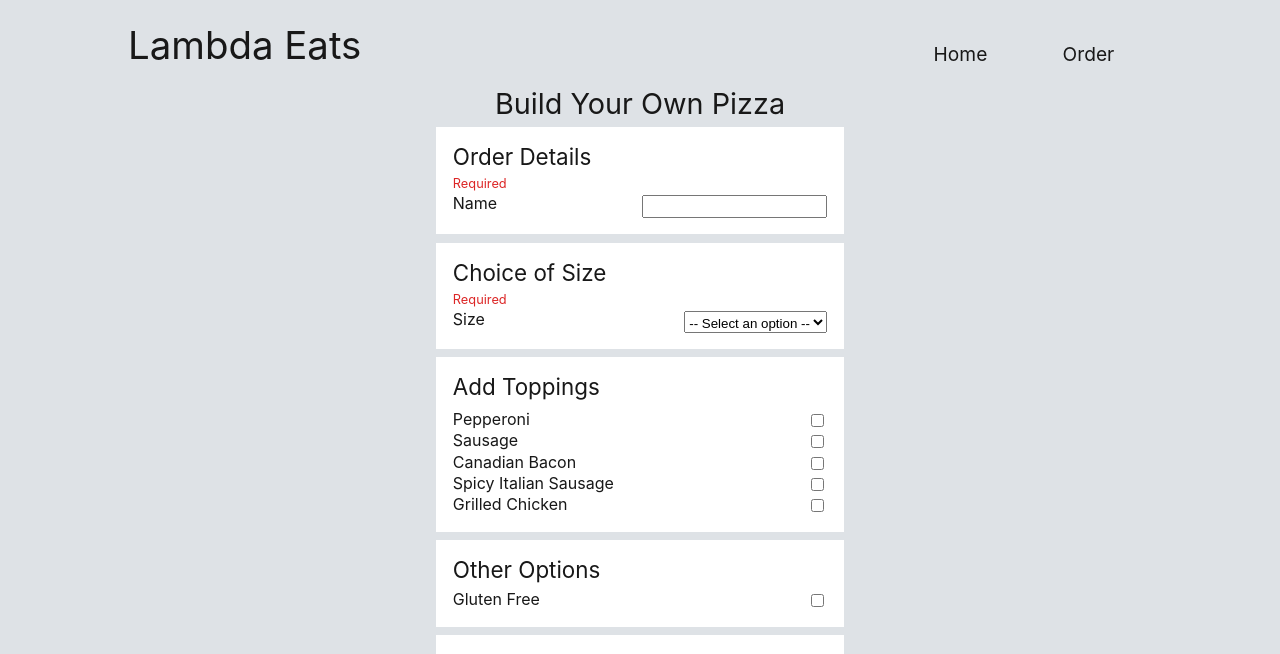
Scenario: Order Form › Validating form input › should only allow valid name input
Note: name is required
In the field named "name": (735, 206) x1=642 y1=195 x2=827 y2=217, type "T"
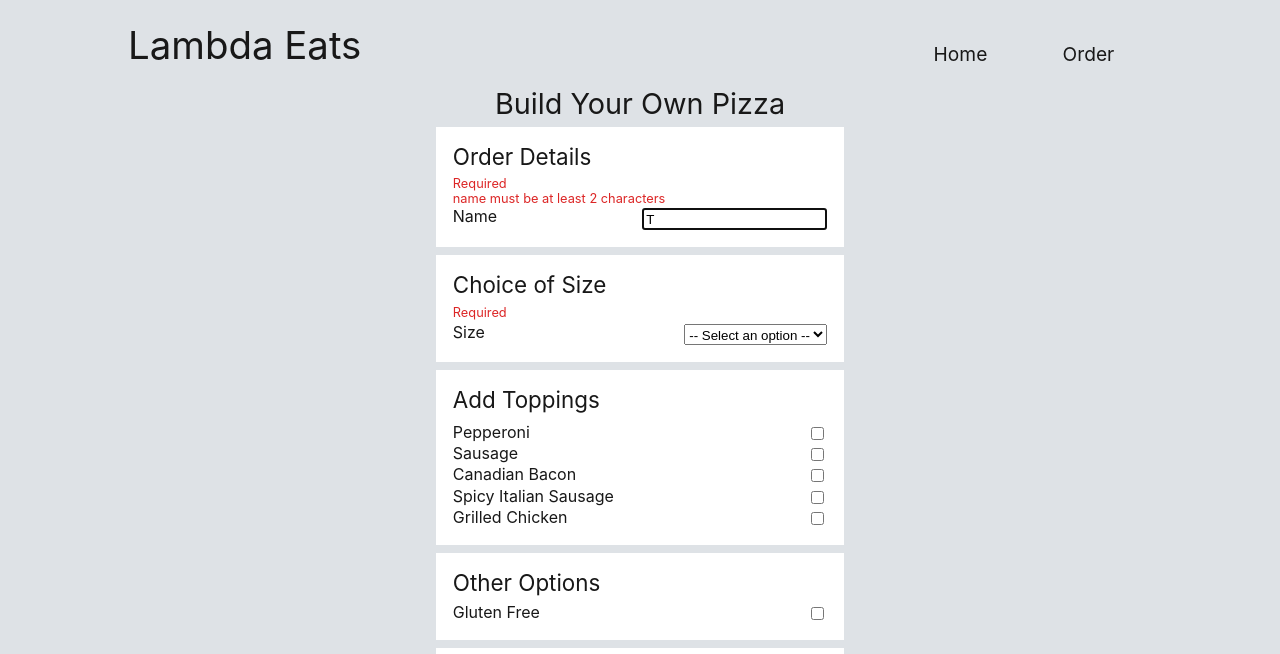
Clear the field named "name": (735, 219) x1=642 y1=208 x2=827 y2=230
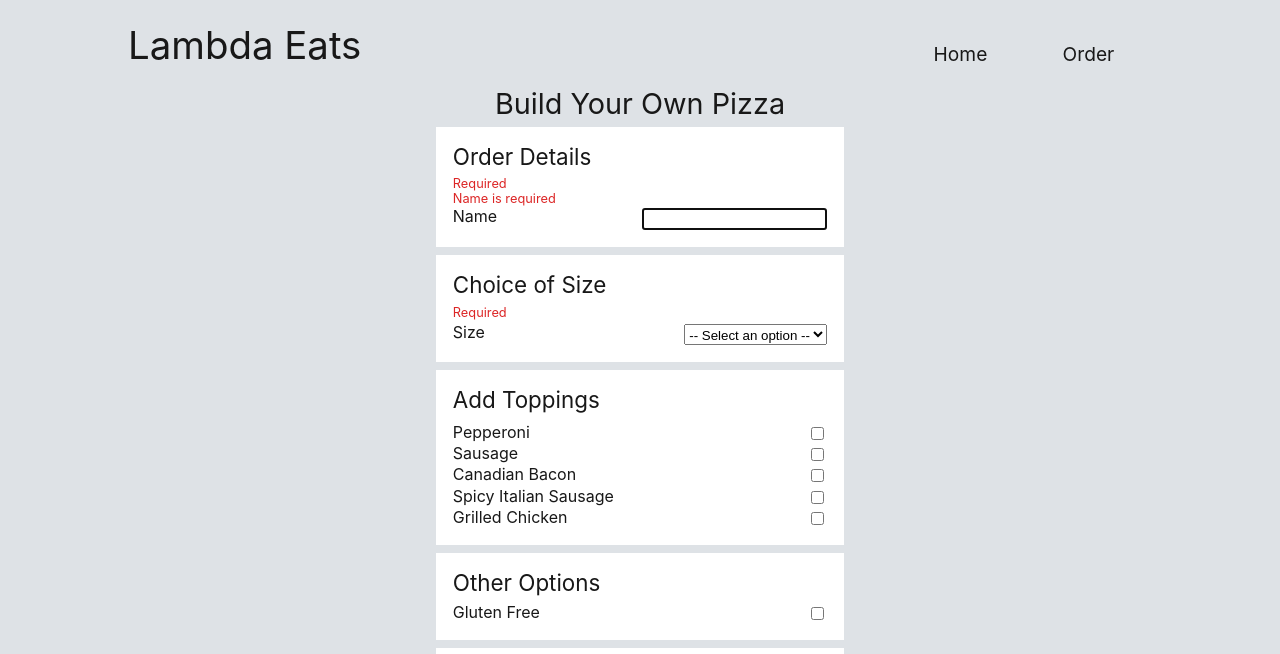
Now the text with id "errors-name" reads "Name is required", box x1=453 y1=191 x2=556 y2=206
Note: name must be 2 characters or longer
In the field named "name": (735, 219) x1=642 y1=208 x2=827 y2=230, type "T"
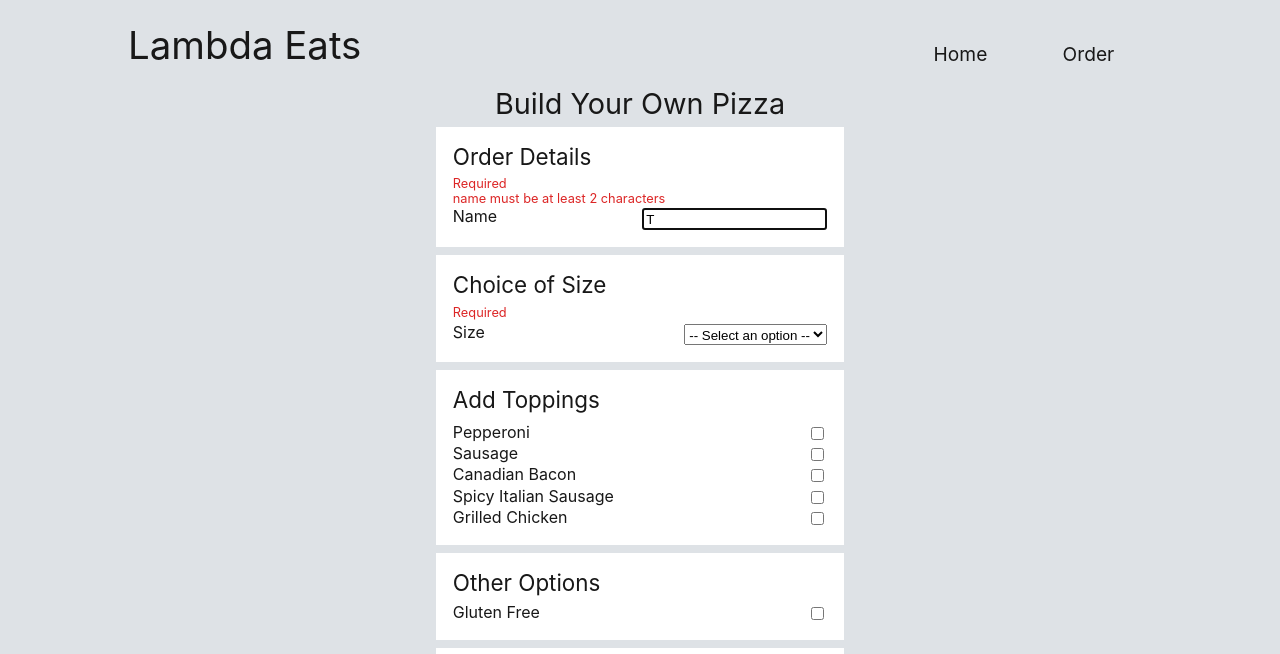
Now the text with id "errors-name" reads "name must be at least 2 characters", box x1=453 y1=191 x2=666 y2=206
